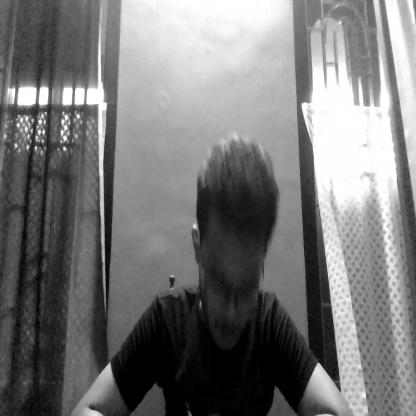Distracted: (190, 151, 280, 346)
